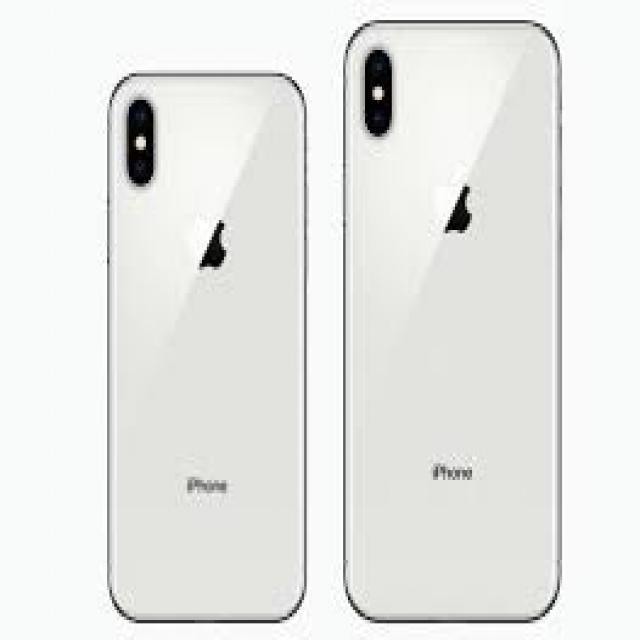lens: (123, 94, 164, 188), (361, 48, 399, 139)
phone: (339, 13, 576, 630), (99, 63, 314, 626)
